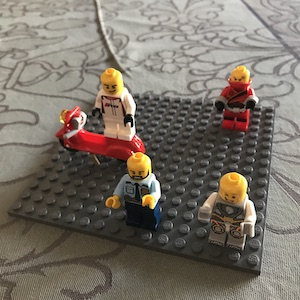Lego: (201, 173, 256, 252), (113, 151, 160, 230), (92, 66, 135, 141), (216, 65, 258, 132)
